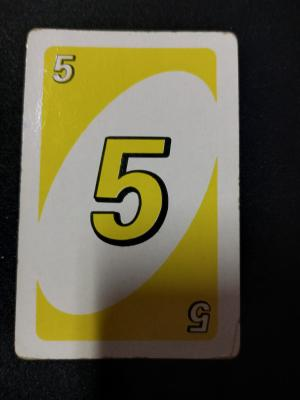num_5: (89, 117, 192, 261), (139, 295, 217, 338)
yellow: (47, 44, 91, 114)
